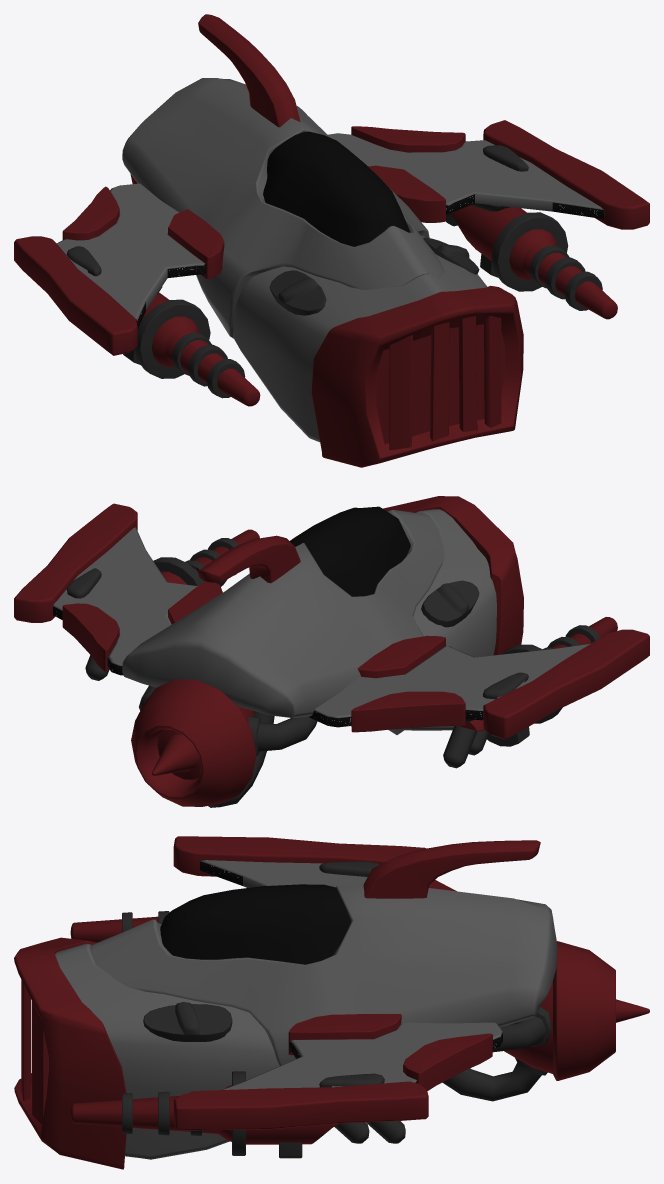
Rendered from Ennemy2.glb.
3 views of the same model, one above another, from view 1: azimuth 30°, elevation 25°; view 2: azimuth 150°, elevation 25°; view 3: azimuth 270°, elevation 25° (orthographic). The views are drawn at different scales.
Parts seen in each view (by area): view 1: Spaceship_main_03_Hull, Spaceship_main_03_Wing_R, Spaceship_main_03_Wing_L, Spaceship_main_03_Weapon_L, Spaceship_main_03_Weapon_R; view 2: Spaceship_main_03_Hull, Spaceship_main_03_Wing_R, Spaceship_main_03_Wing_L, Spaceship_main_03_Engine, Spaceship_main_03_Weapon_R, Spaceship_main_03_Weapon_L; view 3: Spaceship_main_03_Hull, Spaceship_main_03_Wing_L, Spaceship_main_03_Engine, Spaceship_main_03_Wing_R, Spaceship_main_03_Weapon_L, Spaceship_main_03_Weapon_R.
Part boxes in pixels (bbox=[...]): Spaceship_main_03_Hull: bbox=[122, 14, 523, 467]; Spaceship_main_03_Wing_R: bbox=[14, 183, 224, 355]; Spaceship_main_03_Wing_L: bbox=[328, 120, 649, 229]; Spaceship_main_03_Weapon_L: bbox=[446, 203, 617, 319]; Spaceship_main_03_Weapon_R: bbox=[123, 286, 260, 406]; Spaceship_main_03_Hull: bbox=[122, 496, 523, 734]; Spaceship_main_03_Wing_R: bbox=[309, 629, 649, 739]; Spaceship_main_03_Wing_L: bbox=[14, 503, 222, 675]; Spaceship_main_03_Engine: bbox=[131, 679, 317, 807]; Spaceship_main_03_Weapon_R: bbox=[443, 617, 617, 768]; Spaceship_main_03_Weapon_L: bbox=[85, 529, 259, 680]; Spaceship_main_03_Hull: bbox=[14, 840, 557, 1169]; Spaceship_main_03_Wing_L: bbox=[173, 1014, 502, 1130]; Spaceship_main_03_Engine: bbox=[442, 941, 649, 1101]; Spaceship_main_03_Wing_R: bbox=[173, 836, 456, 891]; Spaceship_main_03_Weapon_L: bbox=[70, 1071, 405, 1158]; Spaceship_main_03_Weapon_R: bbox=[70, 911, 169, 942].
Size of the model in its own units: 6.32 by 3.1 by 6.24.
1 material, 1 textured.
